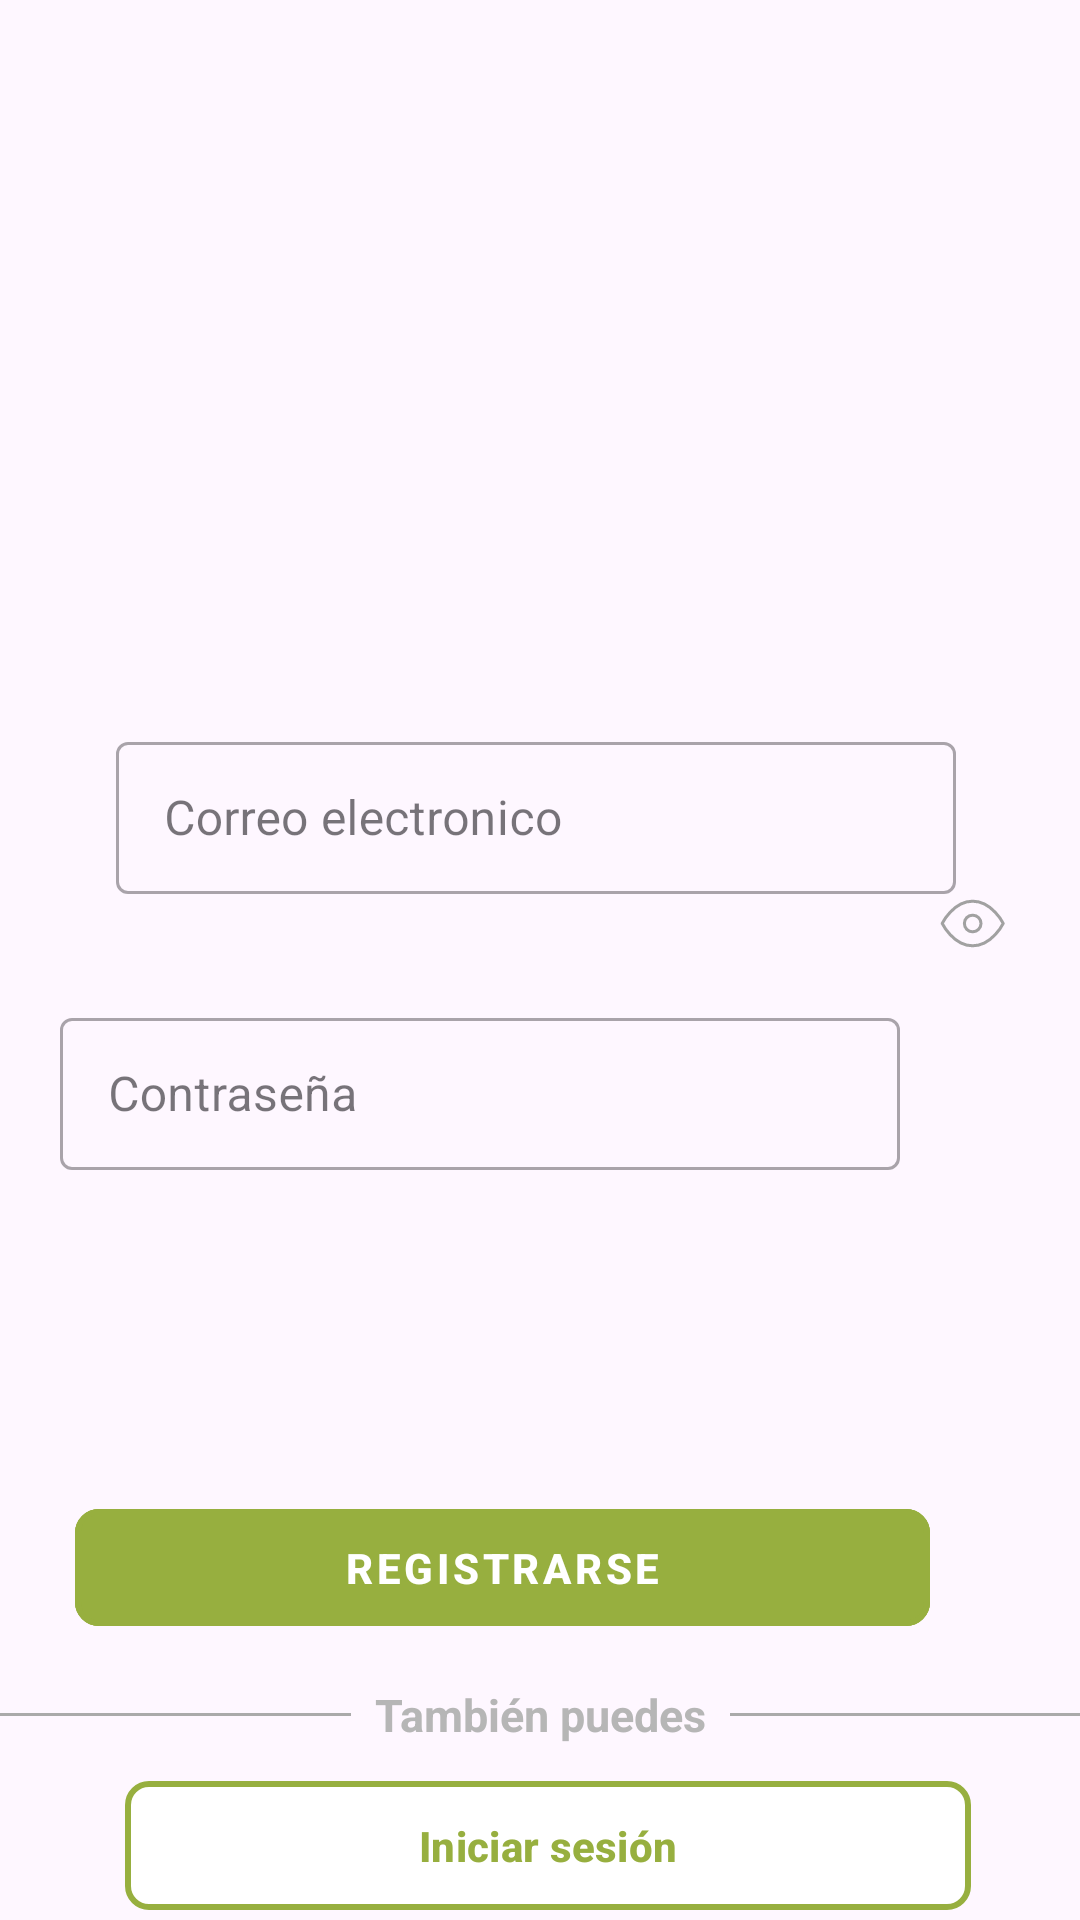

Where to tap for icons on this 1080×1920 app screen, as (x,y):
ojo: (973,923)
